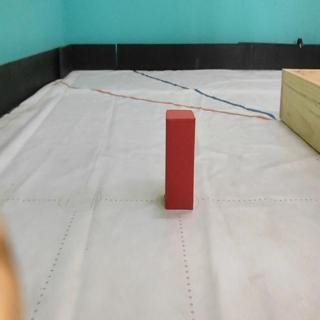redbox: (164, 108, 196, 209)
